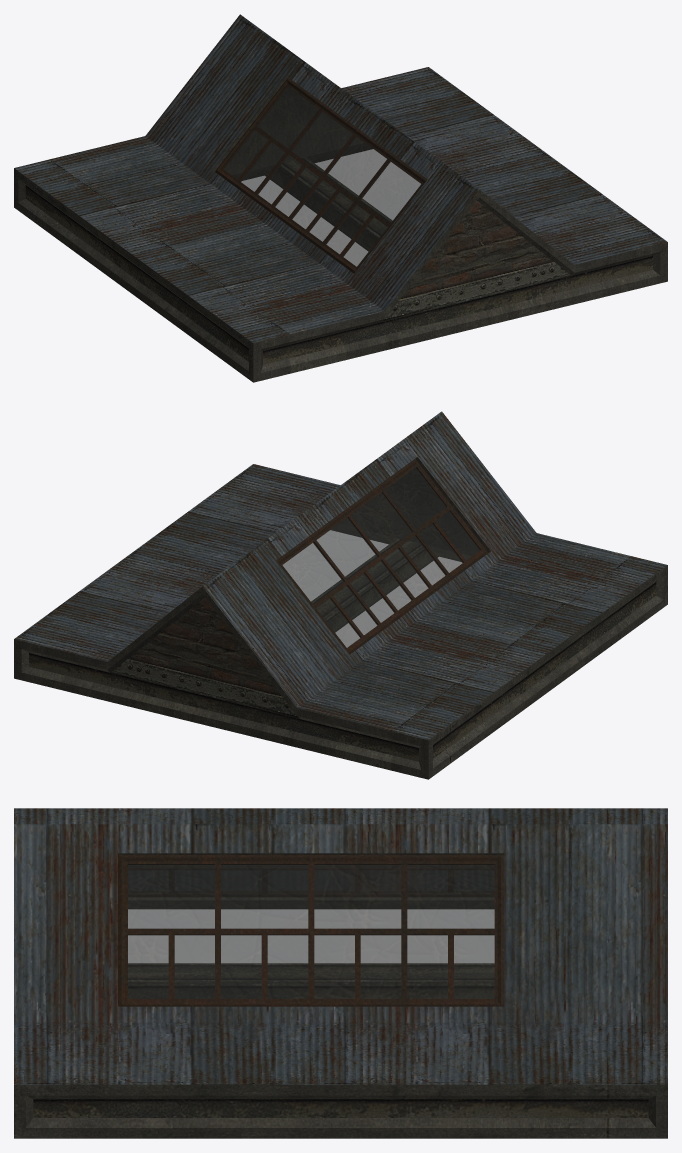
Rendered from roof_bx_1_corner_1.obj.
3 views of the same model, one above another, from view 1: azimuth 30°, elevation 25°; view 2: azimuth 150°, elevation 25°; view 3: azimuth 270°, elevation 25° (orthographic). The views are drawn at different scales.
Visible parts, largest first — view 1: roof_bx_1_corner_1; view 2: roof_bx_1_corner_1; view 3: roof_bx_1_corner_1.
Part boxes in pixels (x1=…): roof_bx_1_corner_1: x1=14, y1=14, x2=667, y2=382; roof_bx_1_corner_1: x1=14, y1=411, x2=667, y2=779; roof_bx_1_corner_1: x1=14, y1=808, x2=667, y2=1138.
Size of the model in its own units: 4.4 by 1.4 by 4.4.
